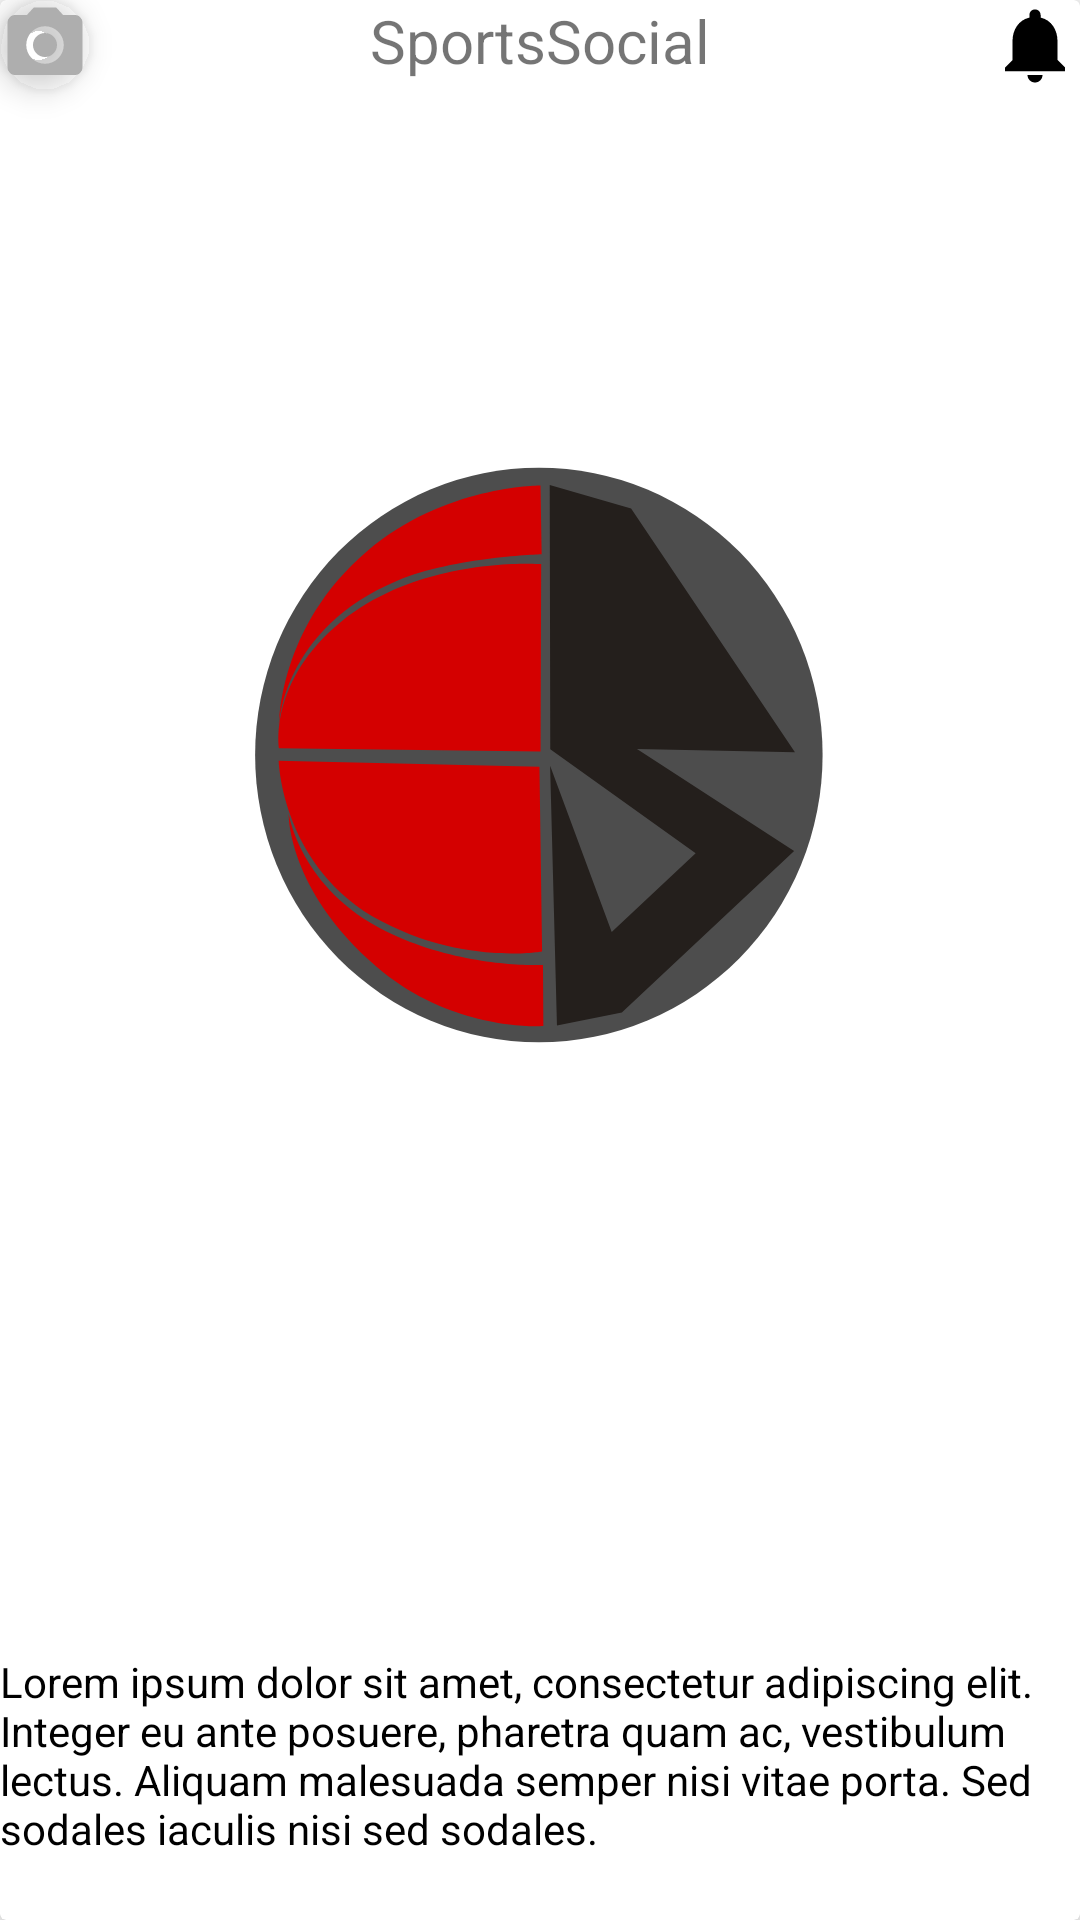

Locate icon controls on the screen. Image size 1080px x 1920px, boxes as (x1, y1, x2, y2).
notifications: (1005, 9, 1065, 83)
photo camera: (7, 7, 83, 76)
